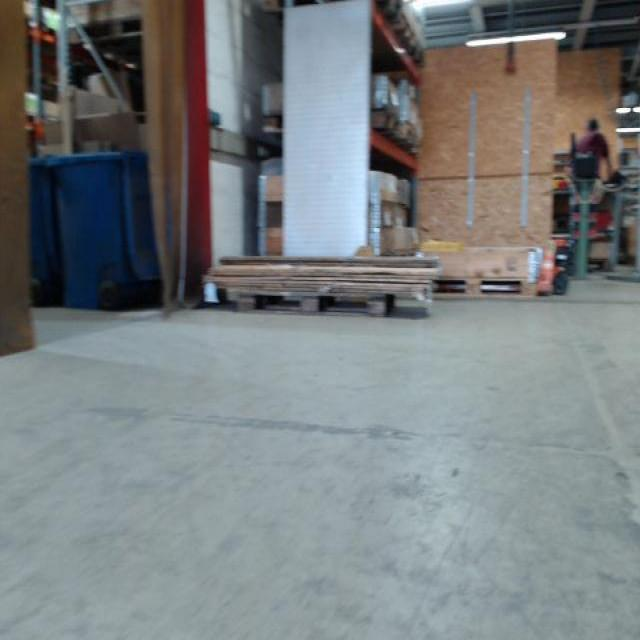pallet: (235, 290, 397, 318), (429, 274, 537, 302)
pallet_truck: (532, 229, 580, 308)
